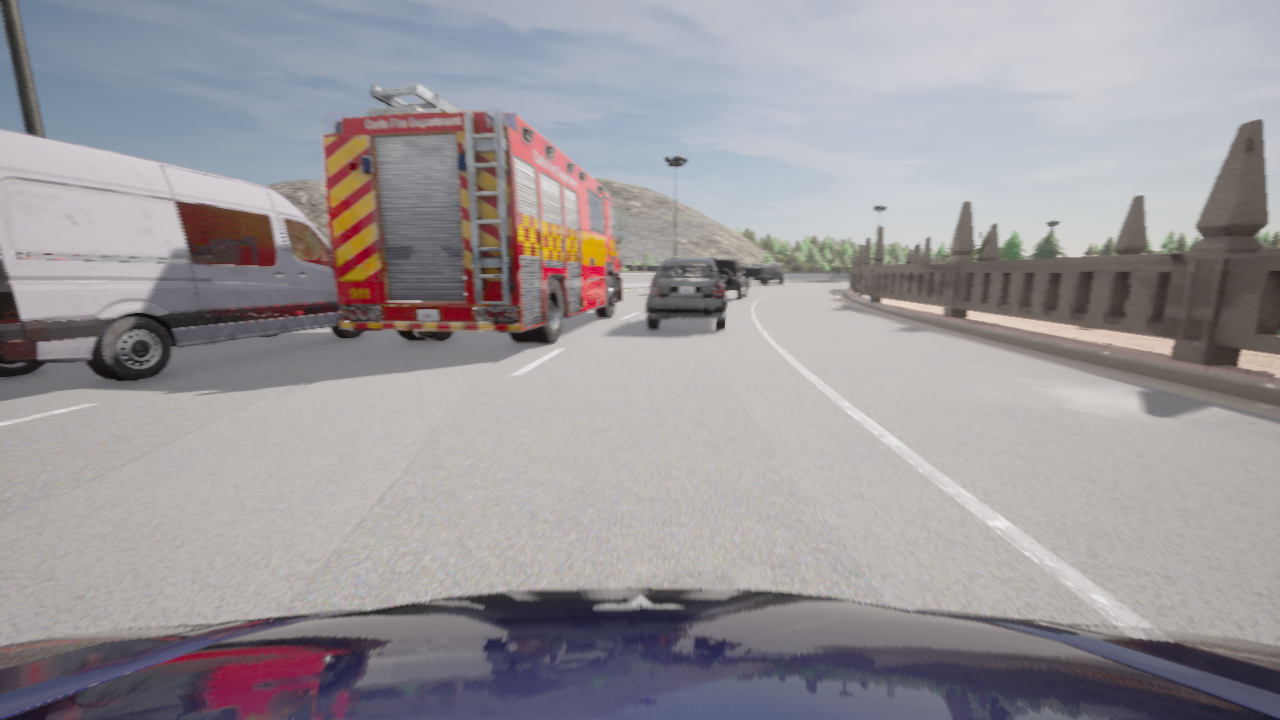cyclist: (0, 588, 1279, 719), (323, 83, 628, 343), (647, 258, 728, 330), (712, 258, 748, 299), (741, 264, 785, 285)
